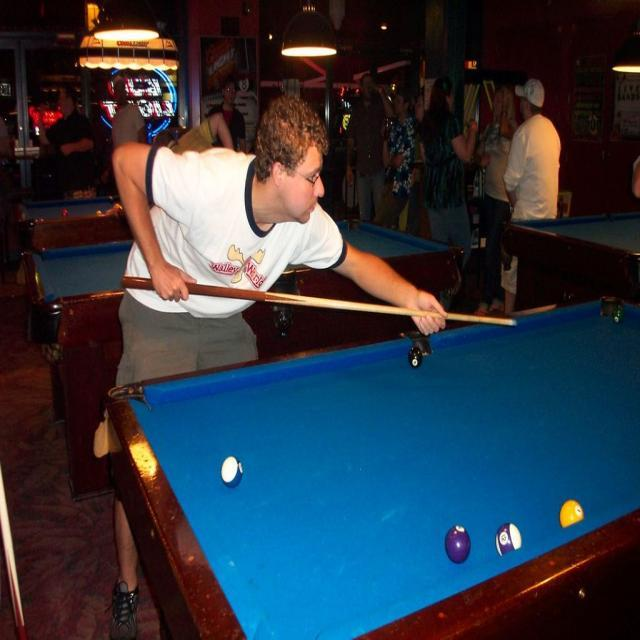Ball: (446, 525, 470, 565), (223, 453, 243, 488), (559, 499, 584, 526), (496, 526, 520, 554), (408, 348, 422, 370), (612, 306, 622, 324)
Billiard table: (105, 290, 640, 640)
